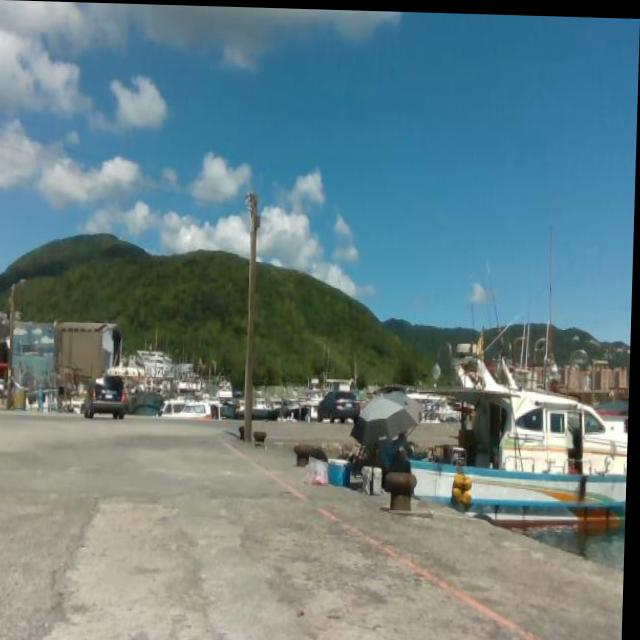pollute: (305, 453, 336, 486)
